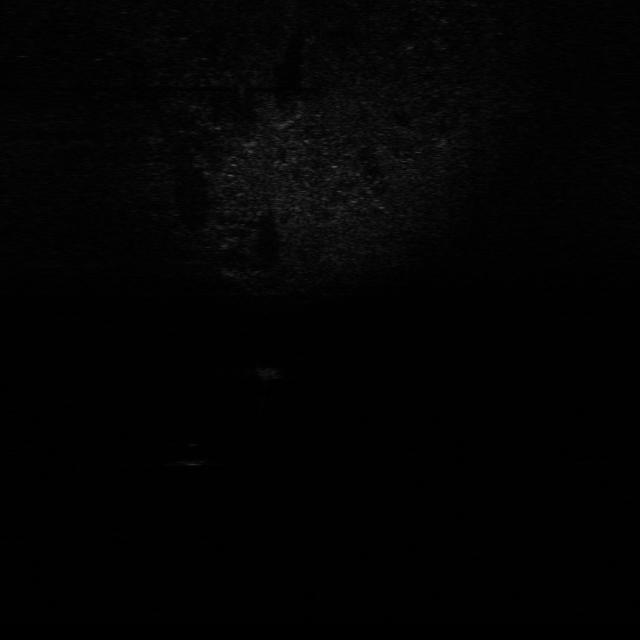ball: (176, 440, 216, 466)
cube: (252, 359, 288, 383)
